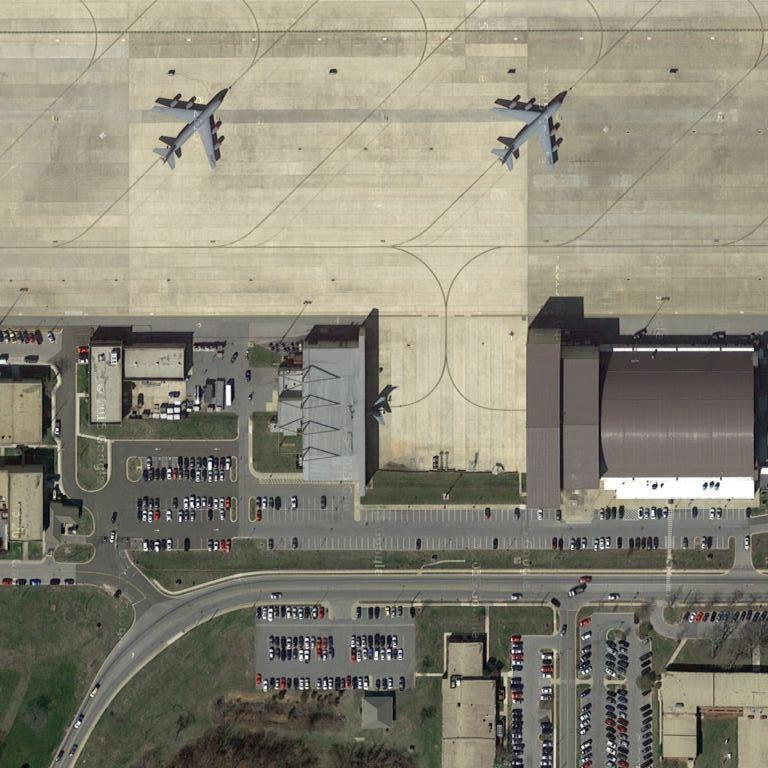KC-135: (485, 90, 566, 177), (145, 89, 225, 176)
